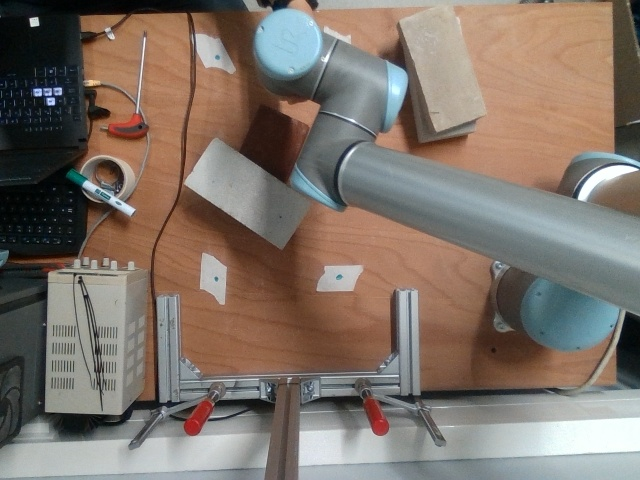brick: (399, 1, 489, 128)
